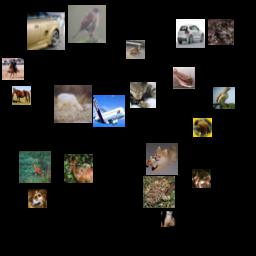airplane: (93, 95, 125, 127)
automobile: (27, 12, 65, 50), (176, 19, 205, 48)
bird: (68, 5, 106, 43), (213, 87, 235, 109), (193, 118, 212, 137)
cat: (130, 82, 156, 108), (161, 211, 177, 227)
deer: (54, 85, 92, 123), (19, 151, 51, 183), (64, 154, 93, 183), (126, 40, 145, 59)
dog: (146, 143, 178, 175), (28, 189, 47, 208)
frog: (143, 176, 175, 208), (208, 19, 234, 45), (192, 169, 211, 188)
ship: (173, 67, 195, 89)
